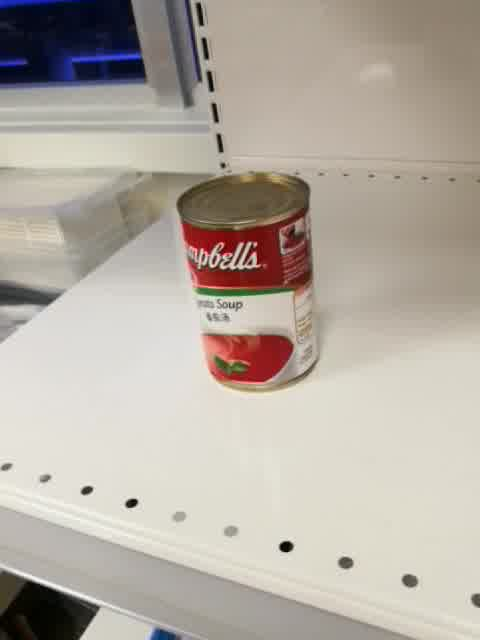tomatosoup: (174, 169, 322, 393)
